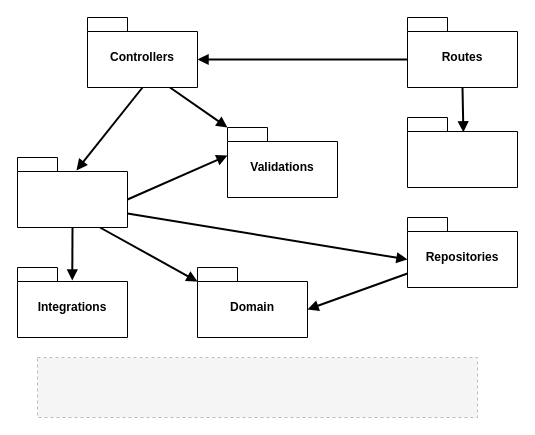
The diagram is 535 pixels wide and 435 high, and some of its shapes have lost their labels. Each missing label, with the box of its shape:
Middlewares: (406, 116, 518, 188)
Services: (16, 156, 128, 228)
Shared (utils, config, dto, errors): (36, 356, 478, 418)
